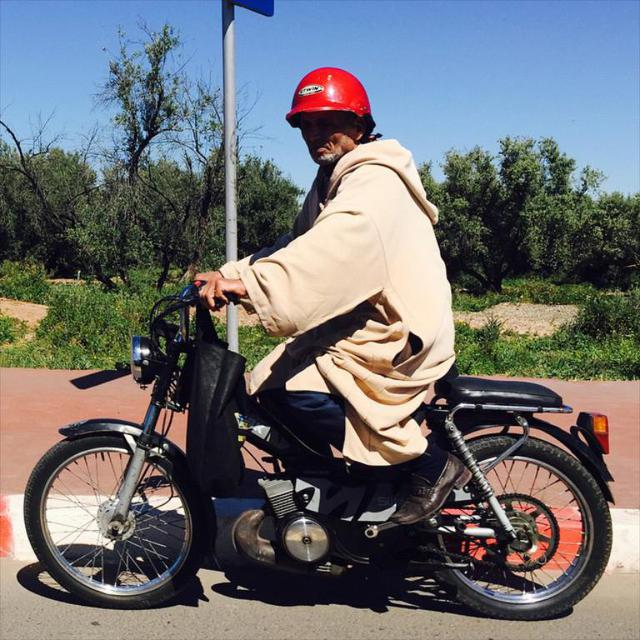helmet: (280, 72, 383, 127)
